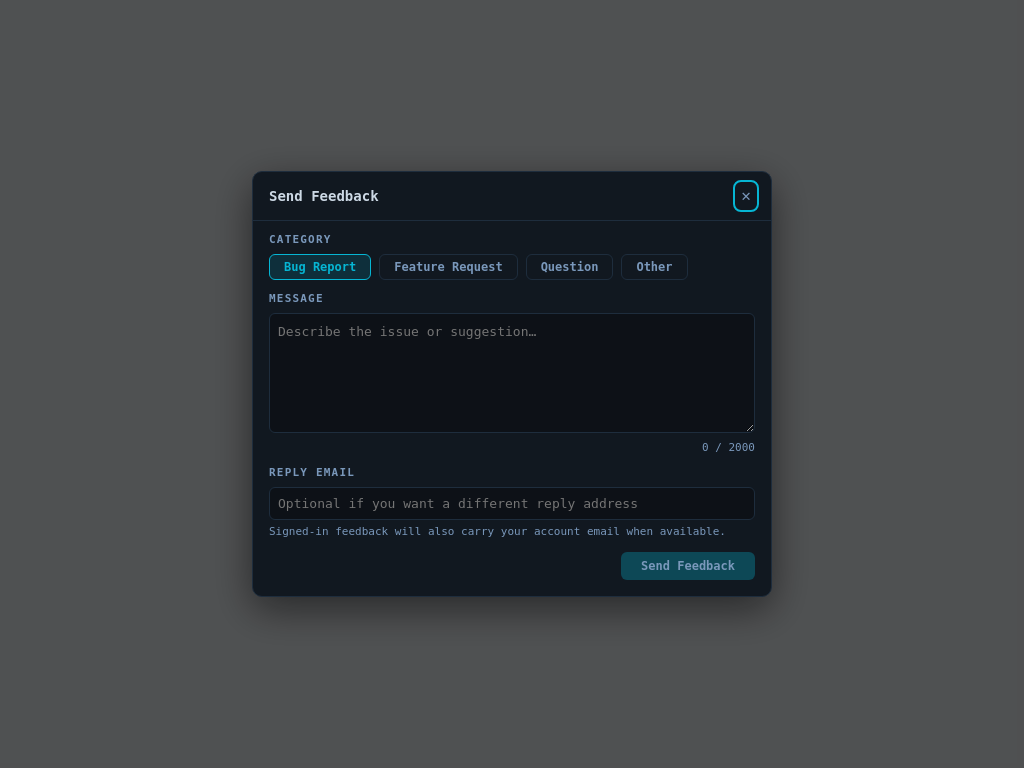
FeedbackModal › shows error message when submission fails
Type "This is a valid test message" into the text box named "feedback message" at (512, 373), box left=269, top=313, right=755, bottom=433
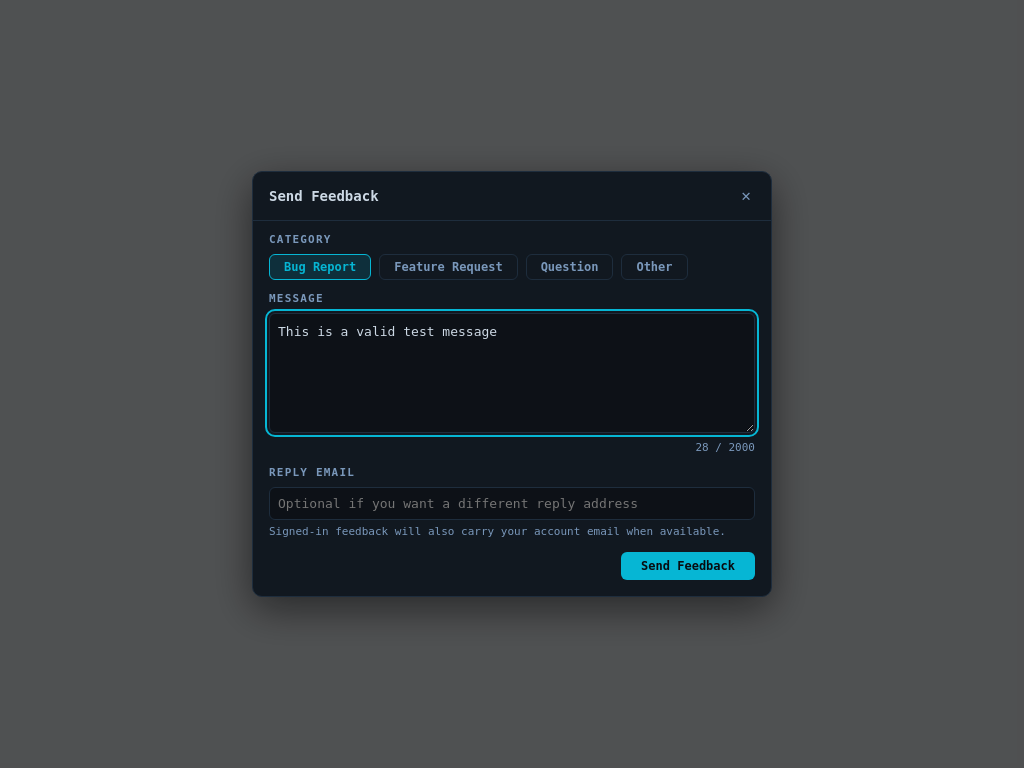
Click the button "Send Feedback" at (688, 566), box left=621, top=552, right=755, bottom=580
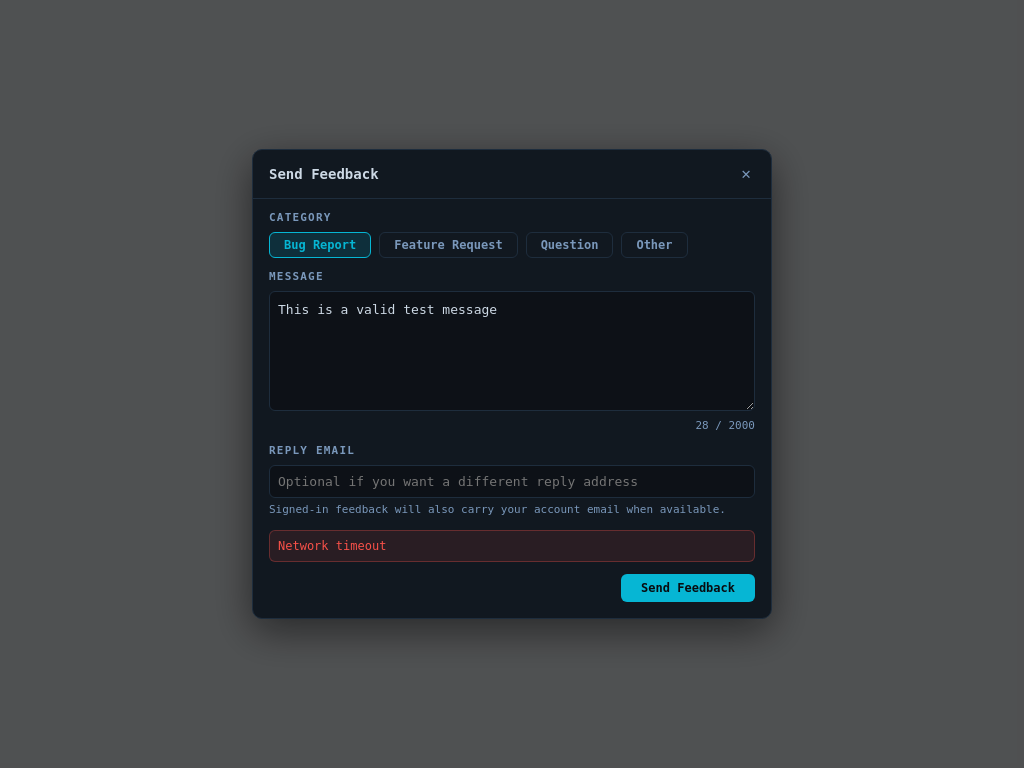
Check: the text "Network timeout" is shown, box left=269, top=530, right=755, bottom=562
